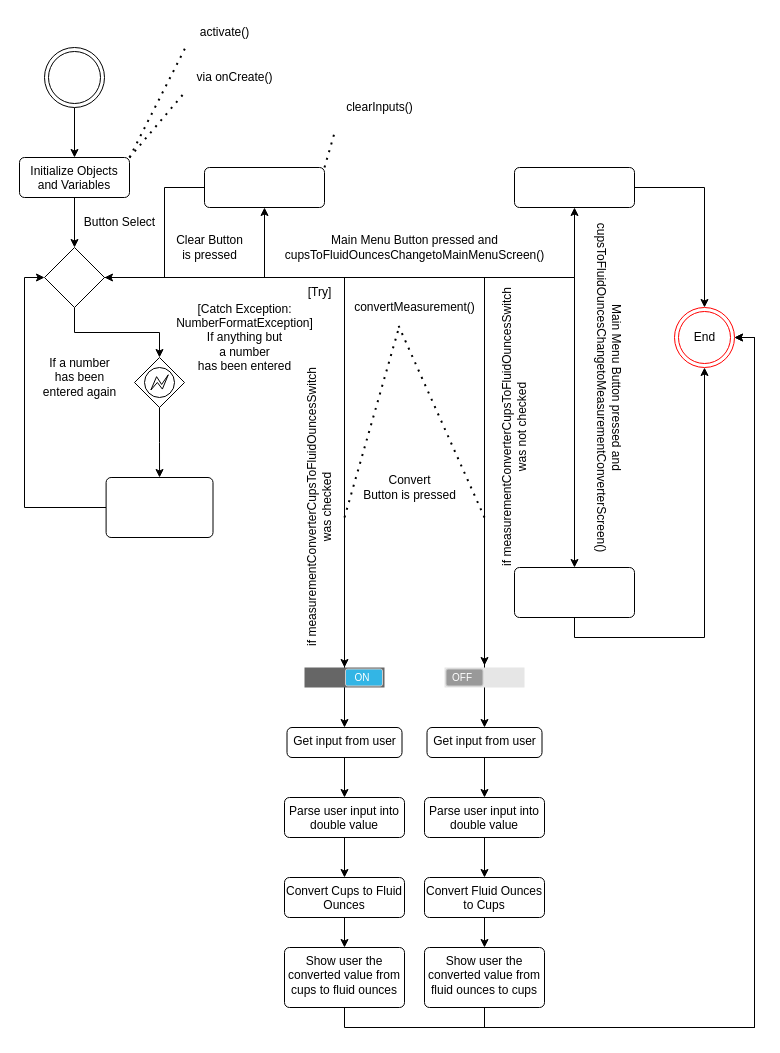
This 780x1053 diagram has some shape labels left out. Here are the shapes that lost their labels. From the top down, the box of each, then its label:
(44, 46, 104, 108): Start
(204, 166, 324, 208): Clear values of objects and variables
(514, 166, 634, 208): Changes screen to Main Menu
(105, 476, 213, 538): Show error prompt that a number has to be entered
(514, 566, 634, 618): Changes screen to Measurement Converter
